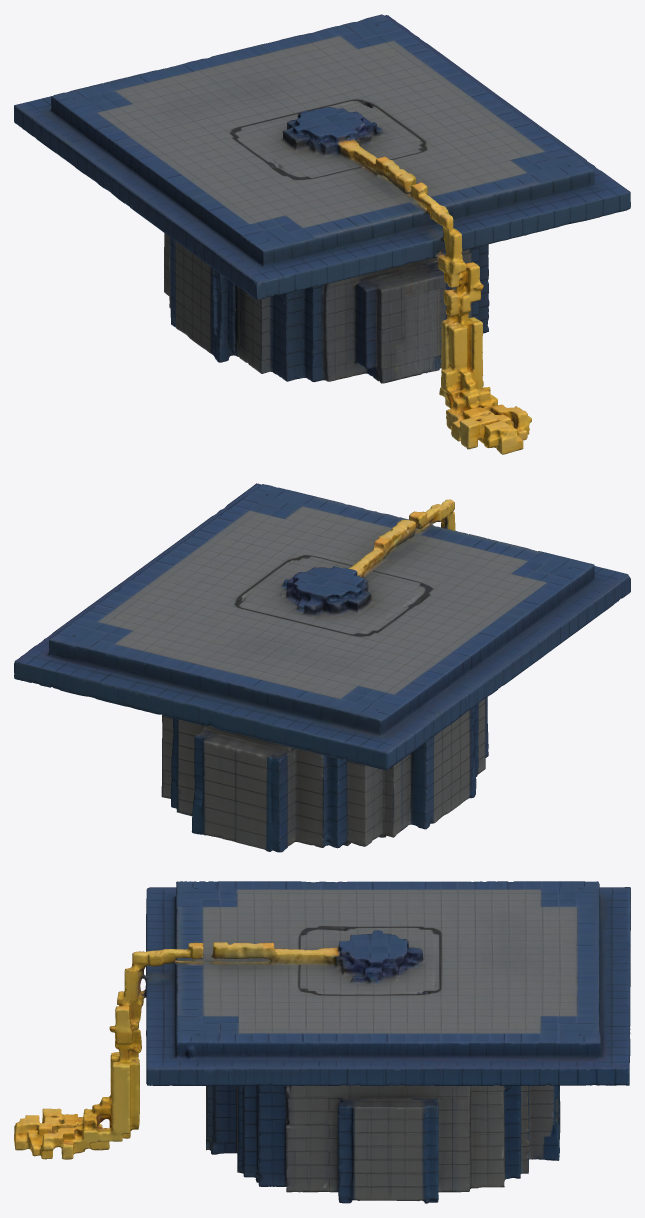
File: Meshy_AI_Voxel_Graduation_Cap_0905141931_texture.glb
3 renders of one model, top to bottom at view 1: azimuth 30°, elevation 25°; view 2: azimuth 150°, elevation 25°; view 3: azimuth 270°, elevation 25°, orthographic.
Size of the model in its own units: 1.39 by 0.7167 by 2.
1 material, 1 textured.
